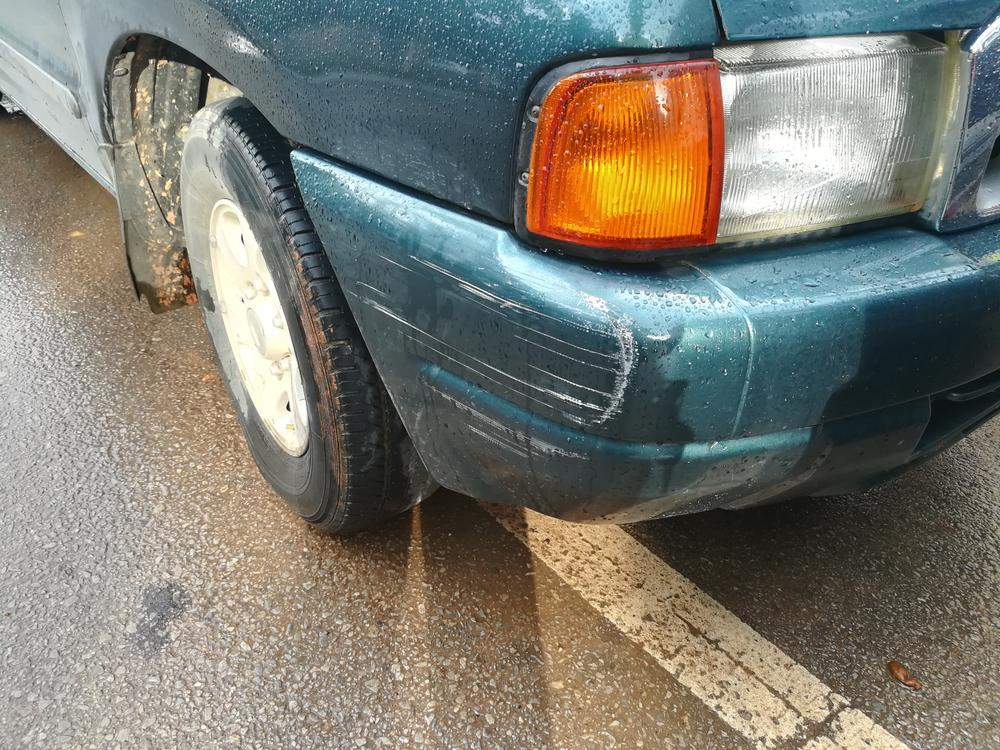scratch: (362, 252, 635, 476)
